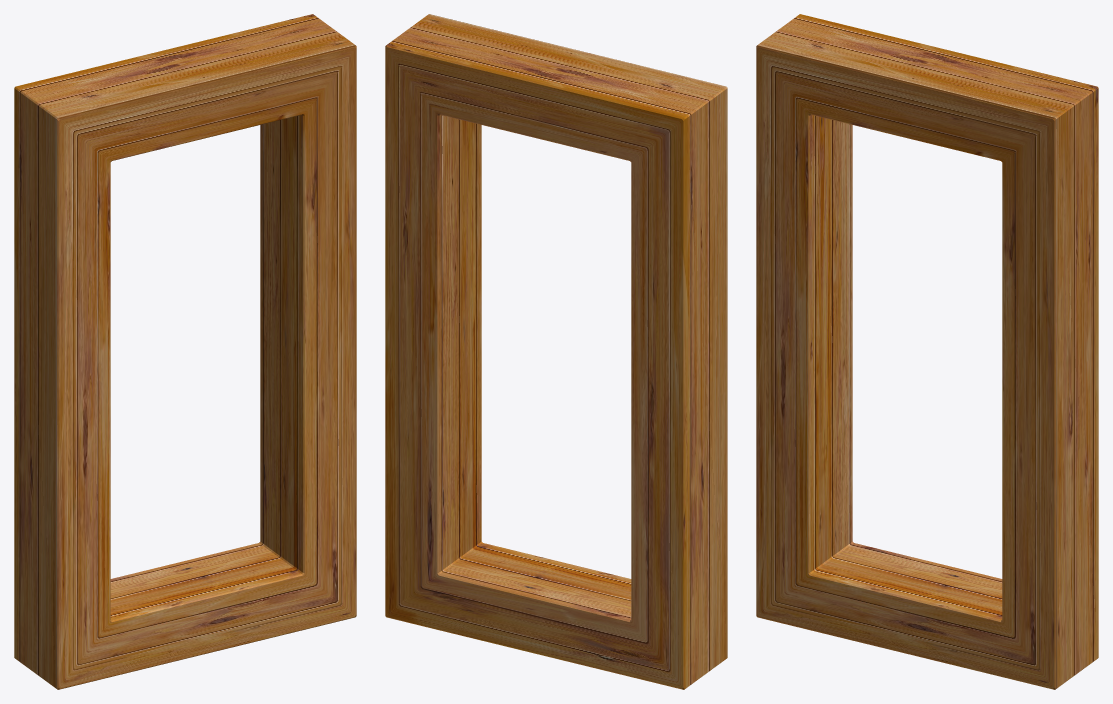
Rendered from doorFrame.fbx.
3 views of the same model, side by side, from view 1: azimuth 30°, elevation 25°; view 2: azimuth 150°, elevation 25°; view 3: azimuth 330°, elevation 25° (orthographic).
Parts seen in each view (by area): view 1: DoorFrame; view 2: DoorFrame; view 3: DoorFrame.
Boxes of the visible parts, x1,y1,x2,y2 form: DoorFrame: (14, 14, 356, 689); DoorFrame: (385, 14, 727, 689); DoorFrame: (756, 14, 1098, 689).
Size of the model in its own units: 1.36 by 2.48 by 0.3451.
